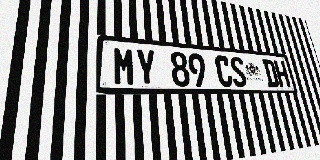8: (170, 51, 191, 86)
9: (187, 53, 208, 87)
C: (214, 55, 234, 87)
D: (262, 59, 280, 87)
H: (273, 60, 291, 87)
M: (113, 46, 136, 86)
S: (229, 56, 248, 87)
Y: (135, 48, 157, 86)
